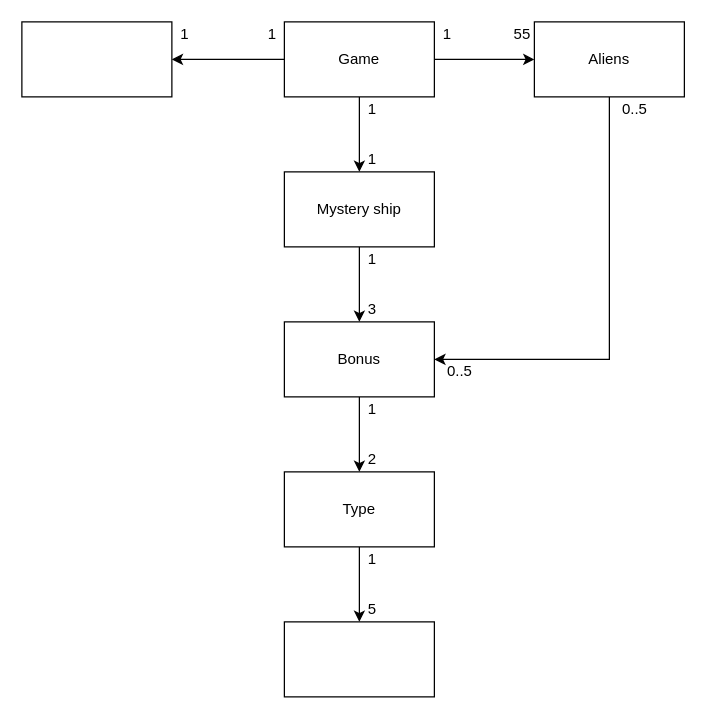
Some shapes in this 706 by 719 pixel diagram are drawn without their labels. The centre of each missing label's shape, as x and y in pixels:
"Effect" belongs at pixel 358 659.
"Player" belongs at pixel 96 59.
